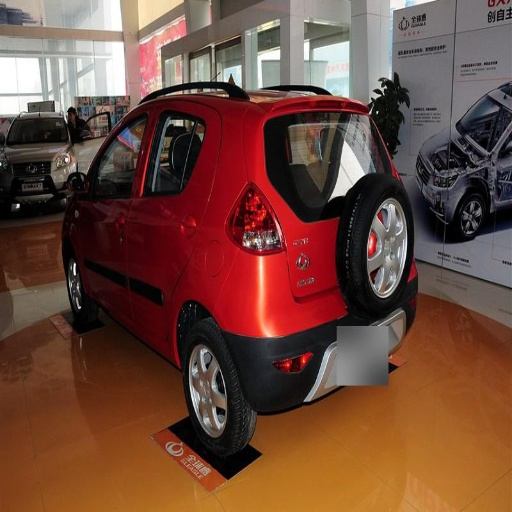back_bumper: (224, 251, 375, 411)
back_left_door: (127, 104, 197, 318)
back_left_light: (229, 194, 283, 255)
trunk: (243, 154, 359, 316)
